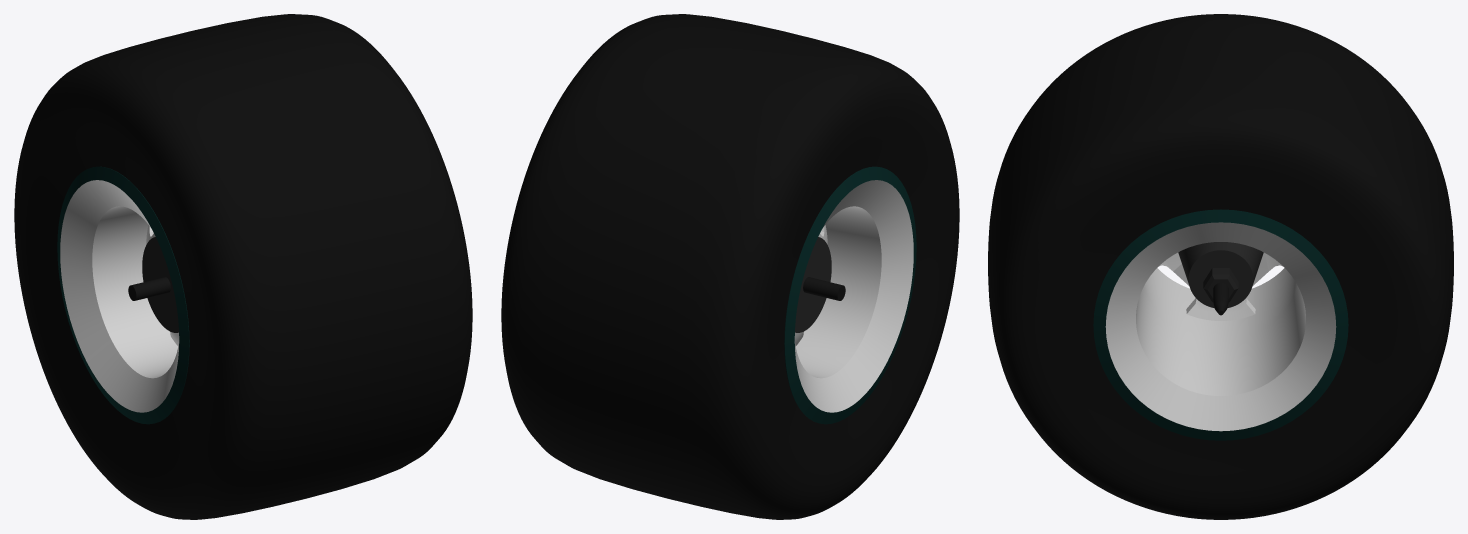
File: drag.obj
The picture shows the model from 3 angles, left to right: view 1: azimuth 30°, elevation 25°; view 2: azimuth 150°, elevation 25°; view 3: azimuth 270°, elevation 25°; orthographic projection. The views are drawn at different scales.
Visible parts, largest first — view 1: Cylinder; view 2: Cylinder; view 3: Cylinder.
Part boxes in pixels (x1,y1,x2,y2): Cylinder: (14, 14, 472, 519); Cylinder: (501, 14, 959, 519); Cylinder: (988, 14, 1453, 519).
Size of the model in its own units: 2.08 by 3.46 by 3.46.
